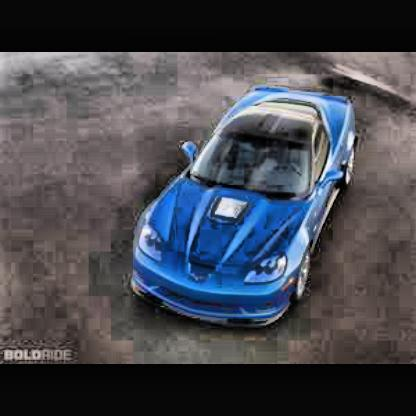Chevrolet Corvette ZR1 2012: (131, 85, 361, 337)
